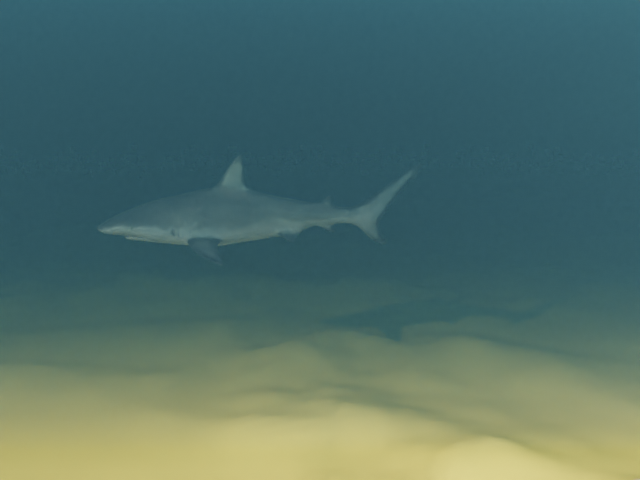Carribean Shark.001: (96, 154, 422, 265)
